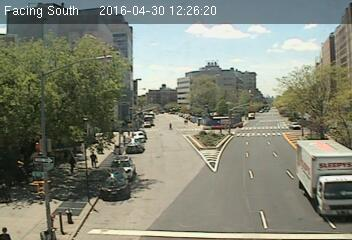neg: (292, 77, 324, 120), (11, 151, 39, 190), (104, 43, 132, 81), (220, 187, 247, 223), (239, 154, 266, 190), (159, 102, 185, 138), (25, 71, 49, 104), (239, 36, 261, 66), (270, 104, 291, 133), (191, 30, 211, 56), (58, 204, 76, 229), (77, 55, 93, 76), (209, 107, 224, 127), (151, 198, 165, 216)
pos: (65, 151, 83, 175), (89, 150, 103, 168)
